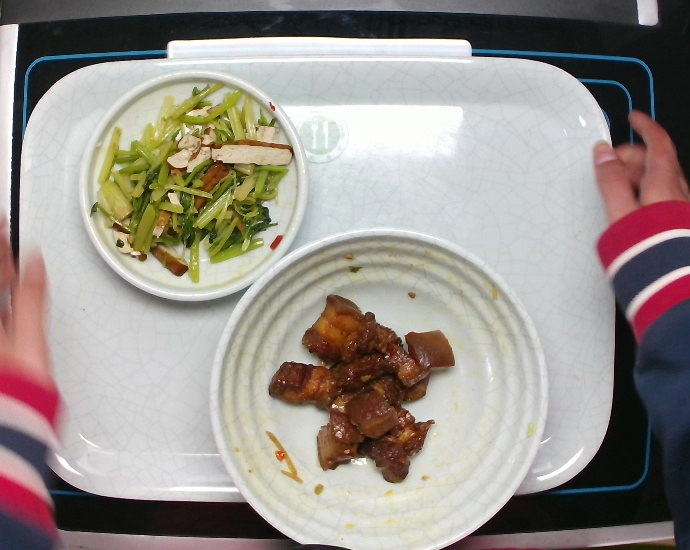JYsf-Da_Tang_Wan: (203, 220, 552, 547)
JYsf-Xiao_Yuan_Pan: (72, 67, 310, 311)
